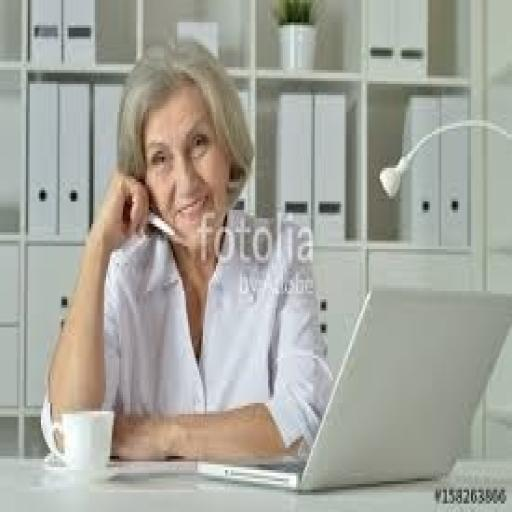using_laptop: (196, 283, 510, 495)
